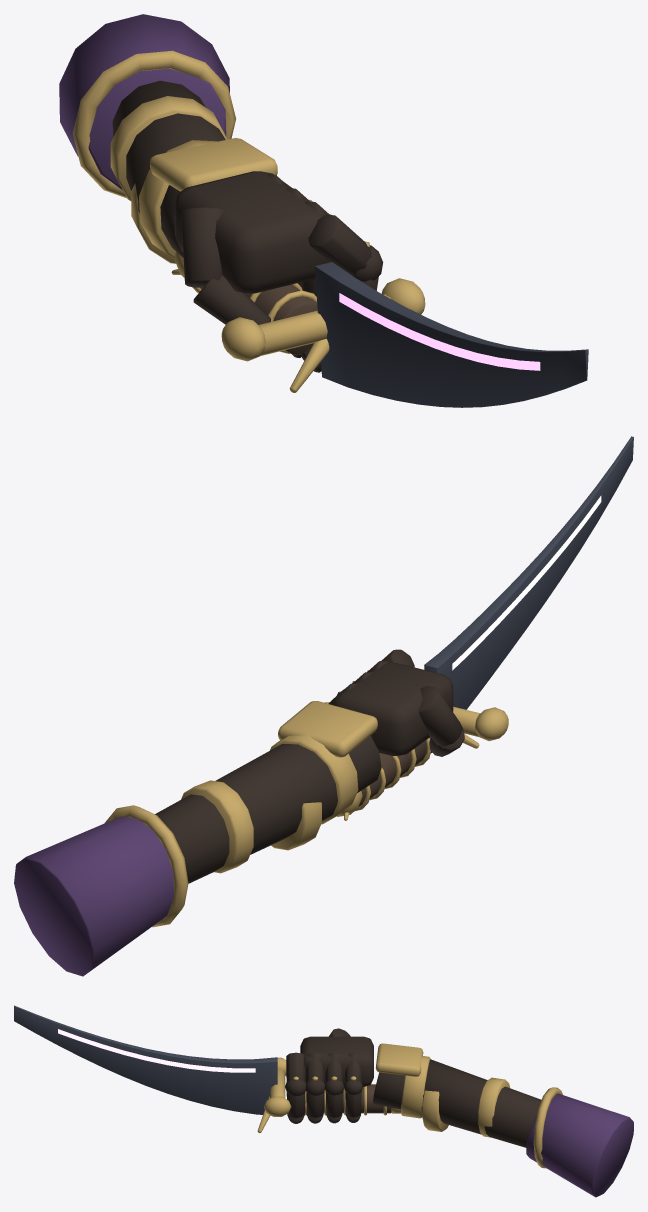
Rendered from fp_shadowhand.glb.
3 renders of one model, top to bottom at view 1: azimuth 30°, elevation 25°; view 2: azimuth 150°, elevation 25°; view 3: azimuth 270°, elevation 25°, orthographic. The views are drawn at different scales.
Visible parts, largest first — view 1: VK_Blade_Obsidian, VK_Glove_Palm, VK_Sleeve_Purple, VK_Sleeve_Cuff, VK_Forearm_Leather, VK_Wrist_Guard, VK_Bracer_Strap_1, VK_ThumbA, VK_FingerA_0, VK_ThumbB, VK_Guard_Brass, VK_Rune_Violet (+8 smaller); view 2: VK_Sleeve_Purple, VK_Forearm_Leather, VK_Blade_Obsidian, VK_Glove_Palm, VK_Wrist_Guard, VK_Bracer_Strap_1, VK_Sleeve_Cuff, VK_Bracer_Cuff, VK_ThumbA, VK_Rune_Violet, VK_Glove_Wrist, VK_Bracer_Strap_0 (+2 smaller); view 3: VK_Blade_Obsidian, VK_Sleeve_Purple, VK_Forearm_Leather, VK_Glove_Palm, VK_Wrist_Guard, VK_Bracer_Cuff, VK_Rune_Violet, VK_Glove_Wrist, VK_Bracer_Strap_1, VK_Sleeve_Cuff, VK_Bracer_Strap_0, VK_FingerA_0 (+11 smaller).
Boxes of the visible parts, bbox=[...] form: VK_Blade_Obsidian: bbox=[315, 262, 588, 407]; VK_Glove_Palm: bbox=[175, 171, 329, 293]; VK_Sleeve_Purple: bbox=[59, 14, 229, 190]; VK_Sleeve_Cuff: bbox=[72, 50, 235, 198]; VK_Forearm_Leather: bbox=[112, 80, 225, 212]; VK_Wrist_Guard: bbox=[150, 138, 277, 191]; VK_Bracer_Strap_1: bbox=[110, 96, 227, 201]; VK_ThumbA: bbox=[181, 207, 223, 287]; VK_FingerA_0: bbox=[308, 215, 371, 275]; VK_ThumbB: bbox=[193, 275, 270, 324]; VK_Guard_Brass: bbox=[259, 294, 390, 355]; VK_Rune_Violet: bbox=[339, 293, 540, 370]; VK_Sleeve_Purple: bbox=[14, 816, 173, 976]; VK_Forearm_Leather: bbox=[155, 744, 337, 883]; VK_Blade_Obsidian: bbox=[424, 436, 633, 752]; VK_Glove_Palm: bbox=[333, 662, 453, 755]; VK_Wrist_Guard: bbox=[278, 701, 377, 757]; VK_Bracer_Strap_1: bbox=[181, 780, 253, 873]; VK_Sleeve_Cuff: bbox=[105, 805, 188, 927]; VK_Bracer_Cuff: bbox=[270, 734, 358, 824]; VK_ThumbA: bbox=[418, 686, 462, 746]; VK_Rune_Violet: bbox=[452, 495, 601, 670]; VK_Glove_Wrist: bbox=[348, 735, 381, 792]; VK_Bracer_Strap_0: bbox=[271, 802, 321, 850]; VK_Blade_Obsidian: bbox=[14, 1005, 277, 1114]; VK_Sleeve_Purple: bbox=[526, 1093, 633, 1197]; VK_Forearm_Leather: bbox=[421, 1059, 541, 1147]; VK_Glove_Palm: bbox=[300, 1036, 373, 1086]; VK_Wrist_Guard: bbox=[375, 1043, 423, 1076]; VK_Bracer_Cuff: bbox=[401, 1056, 430, 1118]; VK_Rune_Violet: bbox=[58, 1029, 255, 1072]; VK_Glove_Wrist: bbox=[373, 1072, 404, 1109]; VK_Bracer_Strap_1: bbox=[478, 1077, 509, 1137]; VK_Sleeve_Cuff: bbox=[533, 1087, 562, 1168]; VK_Bracer_Strap_0: bbox=[422, 1090, 448, 1131]; VK_FingerA_0: bbox=[286, 1052, 305, 1081].
Bounding box in the file's own units: 0.2625 × 0.2365 × 0.8748.
